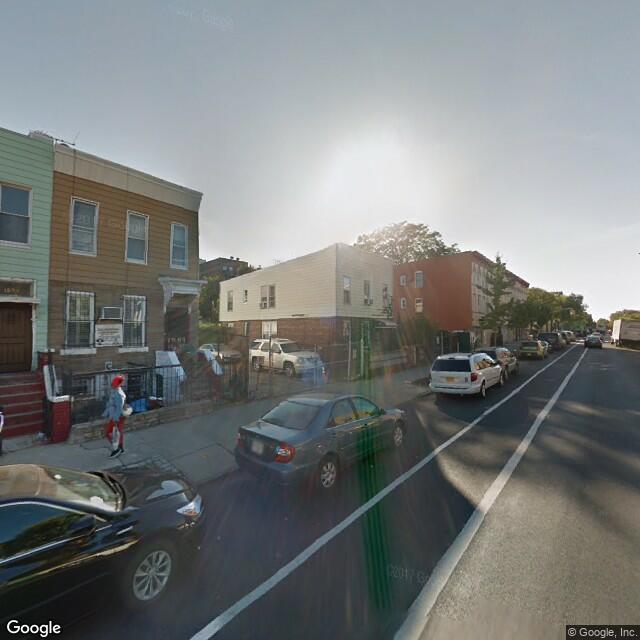litter: (33, 430, 46, 444), (214, 535, 223, 544), (370, 463, 375, 469)
